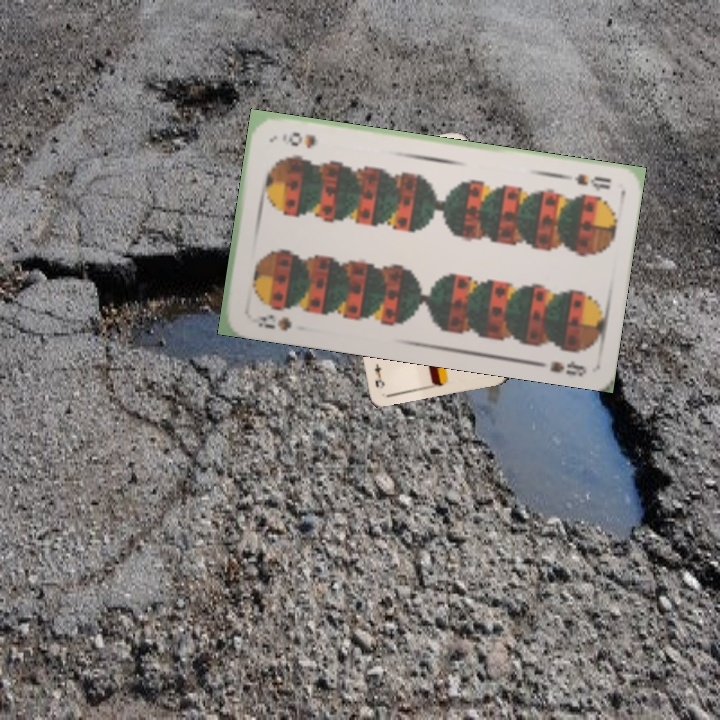S8: (559, 169, 614, 194), (248, 310, 294, 334)
